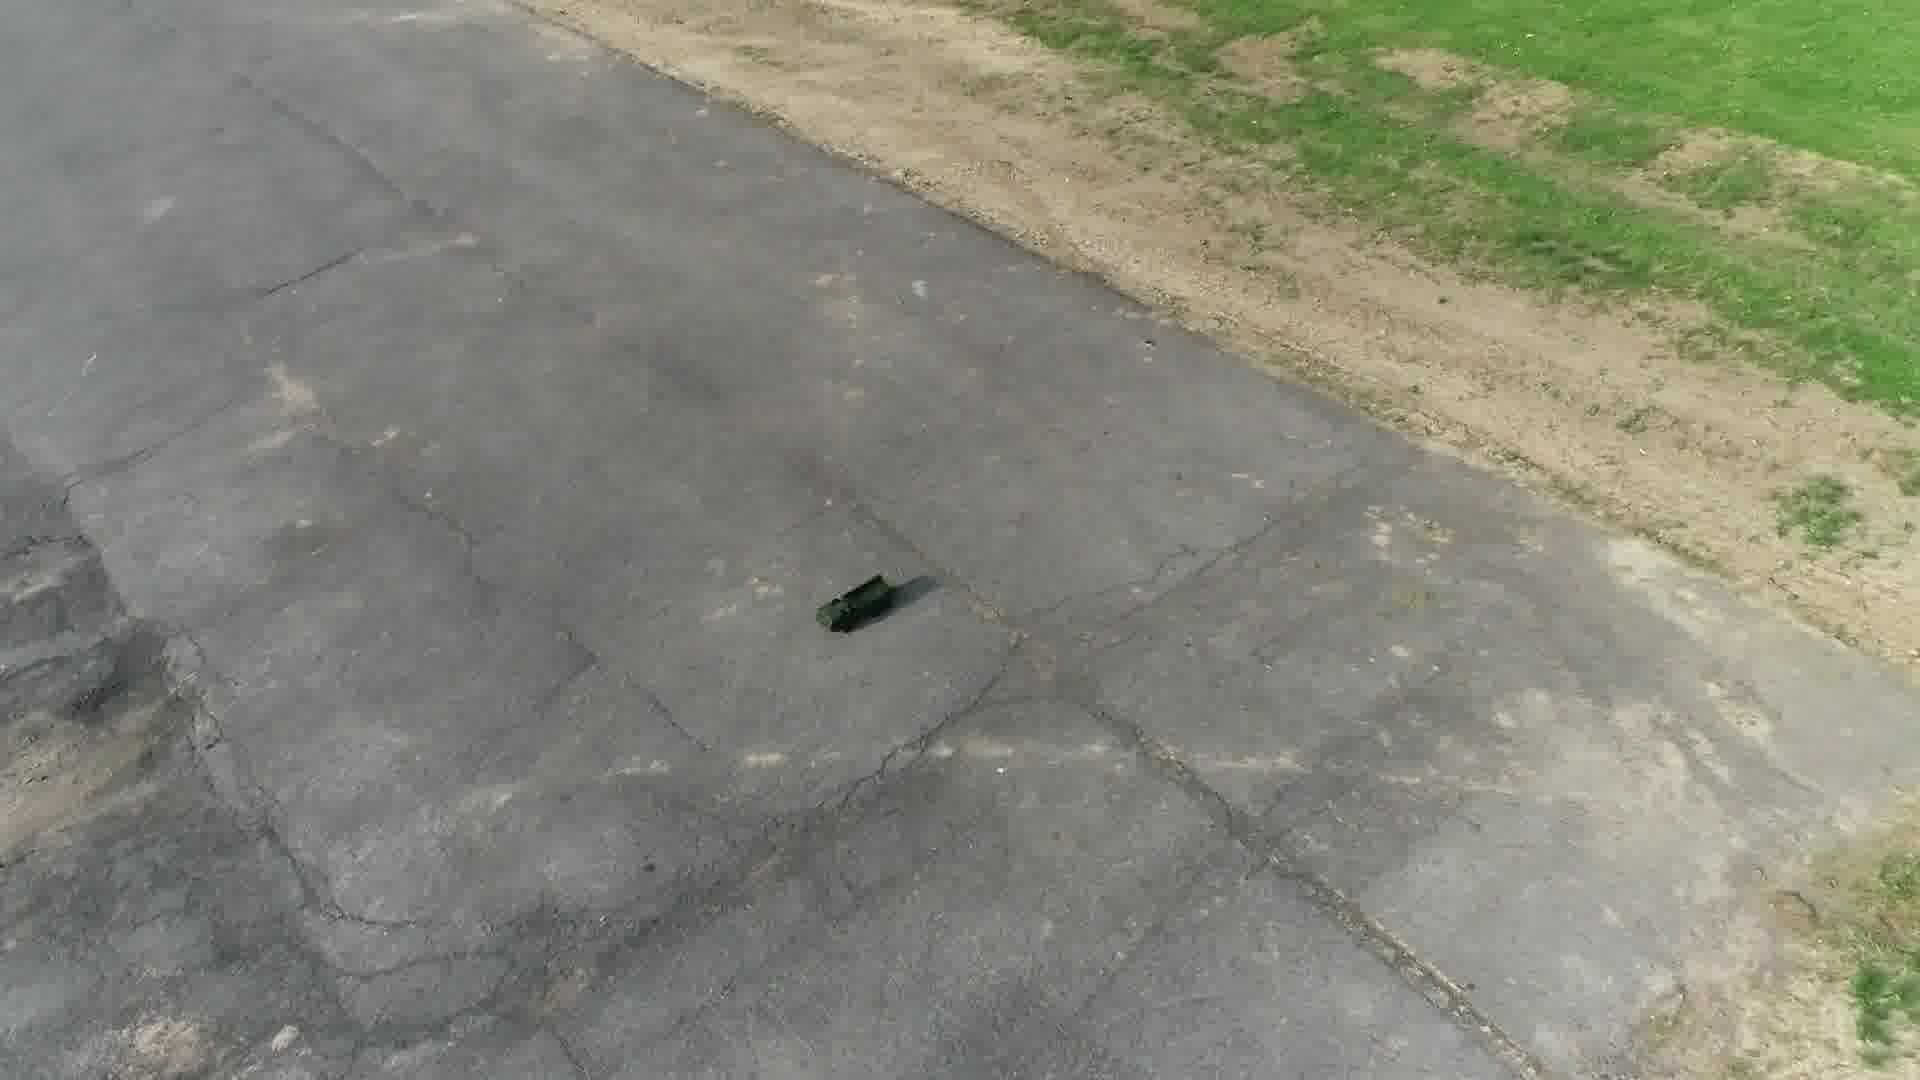transporter9: (814, 570, 902, 634)
